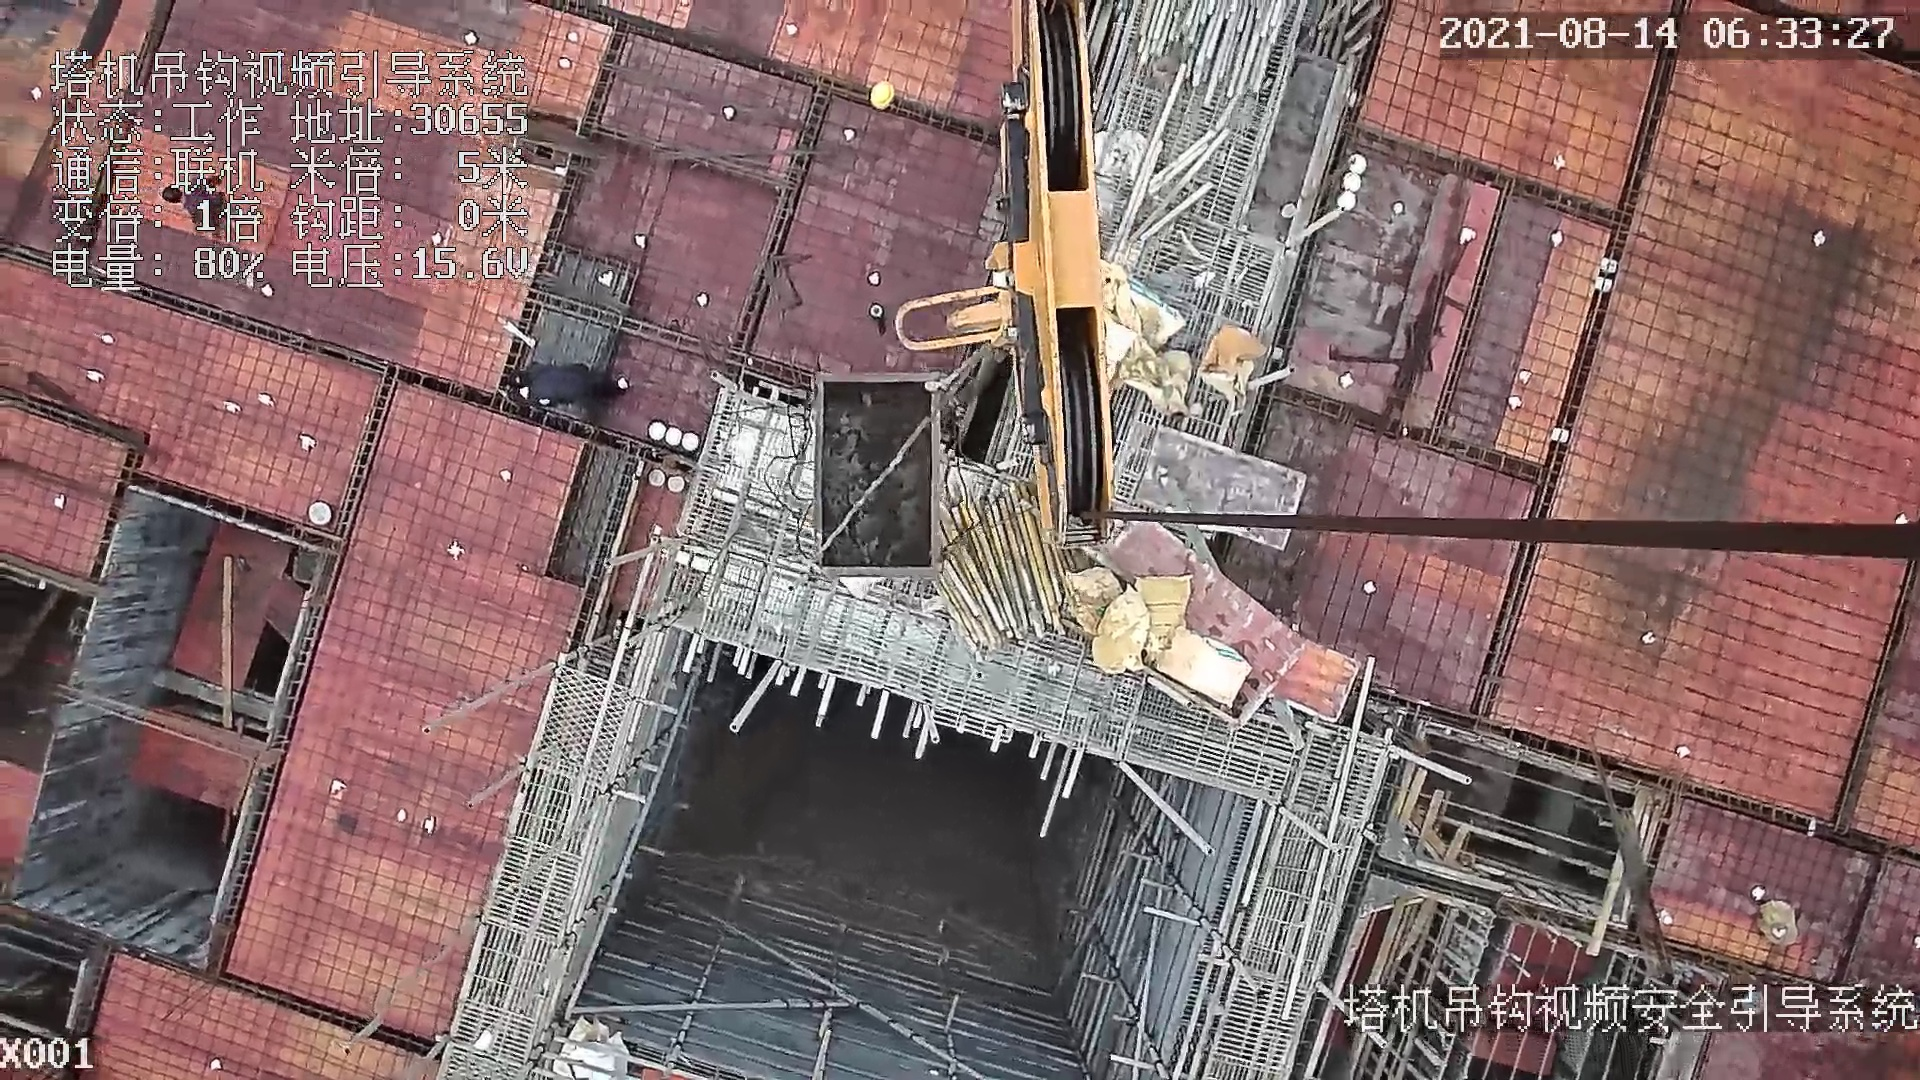helmet: (870, 76, 900, 117)
hook: (887, 1, 1118, 546)
hopper: (813, 374, 959, 589)
person: (510, 362, 624, 415)
scaffold: (924, 486, 1081, 642)
